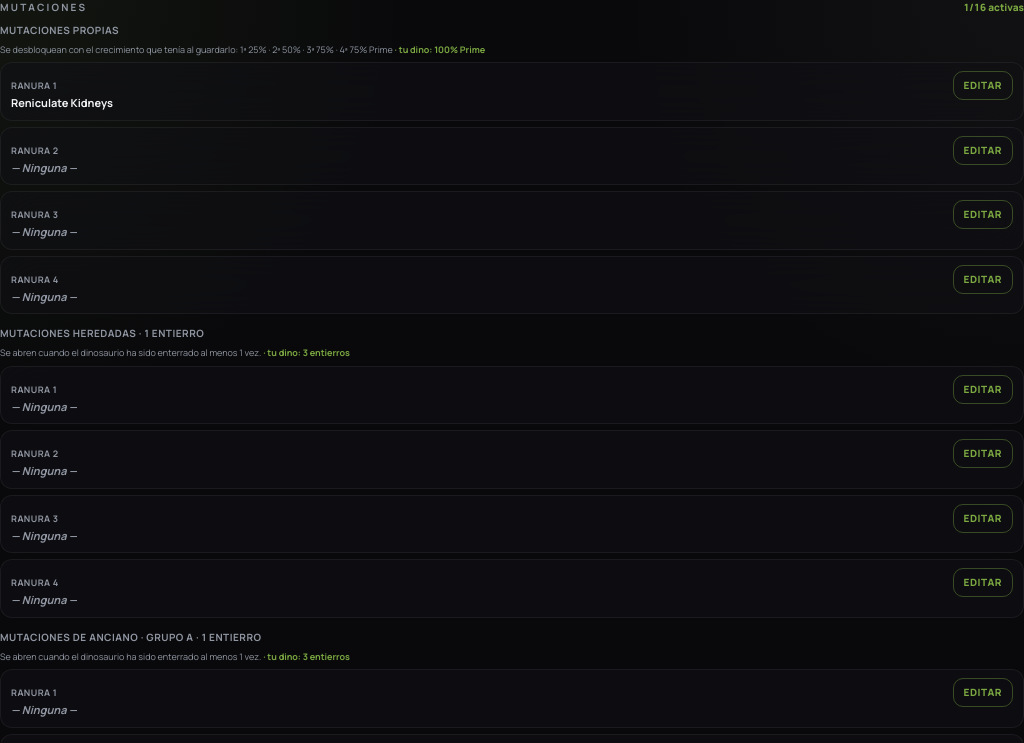
Test: a value already stored in a closed ranura is never broken › it can still be removed, and the button says removal is free
This screenshot has width=1024, height=743.
Later steps or results of the test are not shown.
Click the button with test id "mutation-edit-n1" at (983, 86), box [953,71,1013,100]
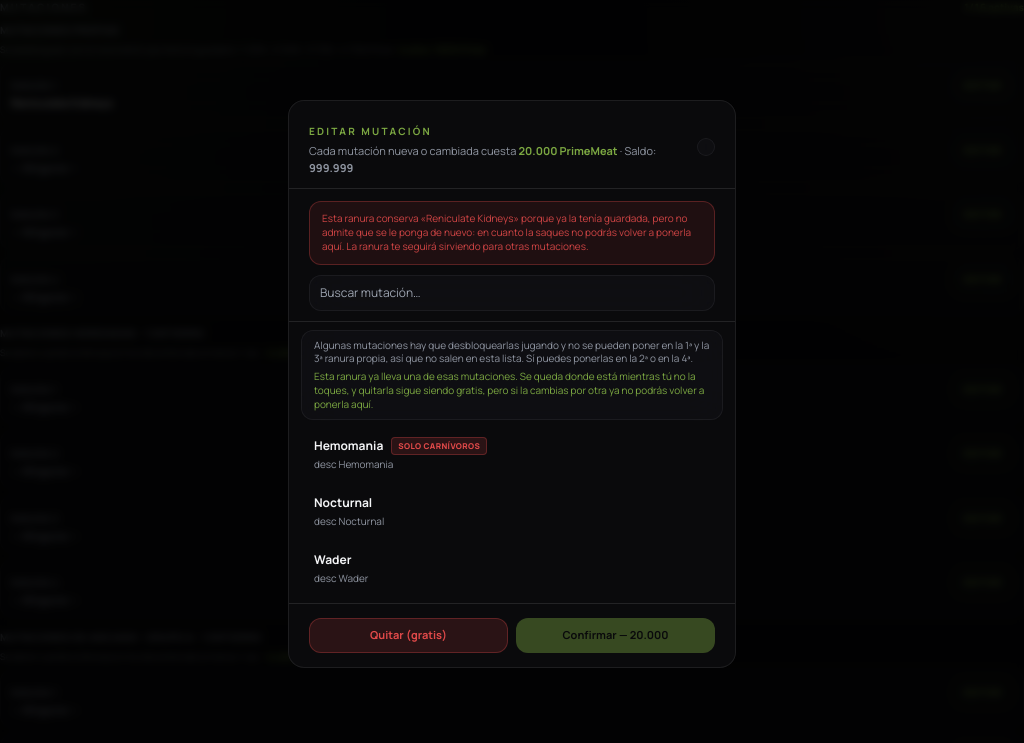
Expected: the button with test id "mutation-picker-clear" shows "gratis", [309,618,508,653]
